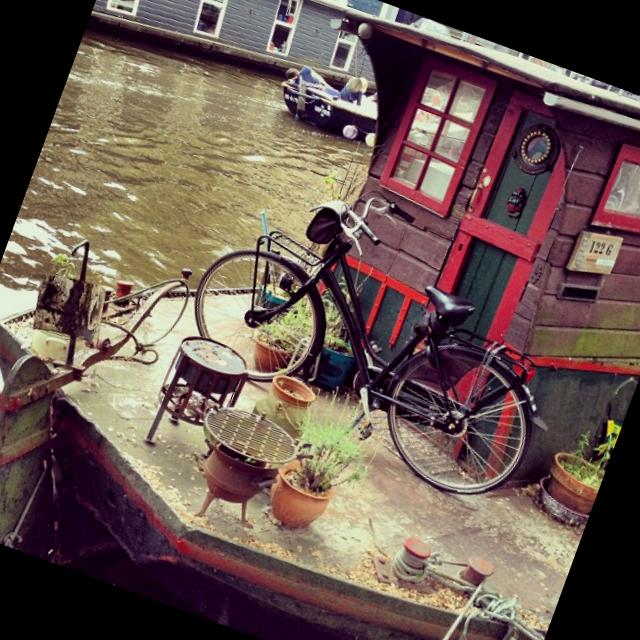Vehicle: (406, 12, 456, 41), (300, 0, 352, 7)
